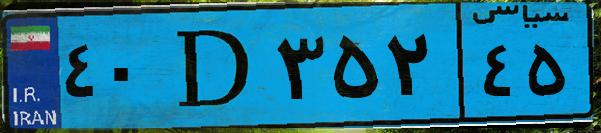0: (110, 28, 158, 98)
2: (385, 28, 445, 110)
3: (270, 28, 330, 110)
4: (57, 26, 110, 100), (475, 38, 525, 113)
5: (330, 28, 385, 110), (525, 38, 570, 115)
D: (158, 12, 270, 120)
